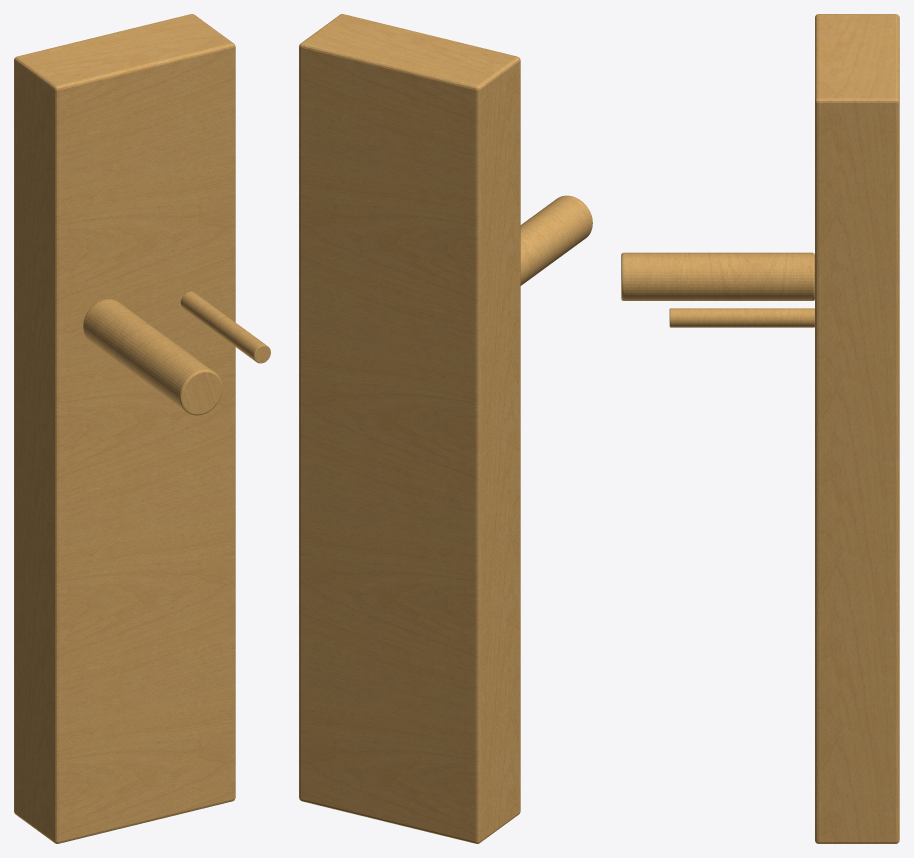
The picture shows the model from 3 angles, left to right: view 1: azimuth 30°, elevation 25°; view 2: azimuth 150°, elevation 25°; view 3: azimuth 270°, elevation 25°; orthographic projection.
Parts seen in each view (by area): view 1: tube_target_fixture; view 2: tube_target_fixture; view 3: tube_target_fixture.
Boxes of the visible parts, x1,y1,x2,y2 form: tube_target_fixture: (14, 14, 270, 843); tube_target_fixture: (299, 14, 592, 843); tube_target_fixture: (621, 14, 899, 843).
Size of the model in its own units: 0.085 by 0.34 by 0.115.
Materials: 1 (1 with a texture image).
